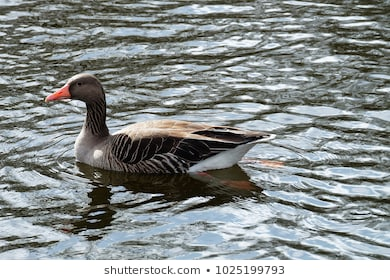duck: (34, 65, 277, 189)
